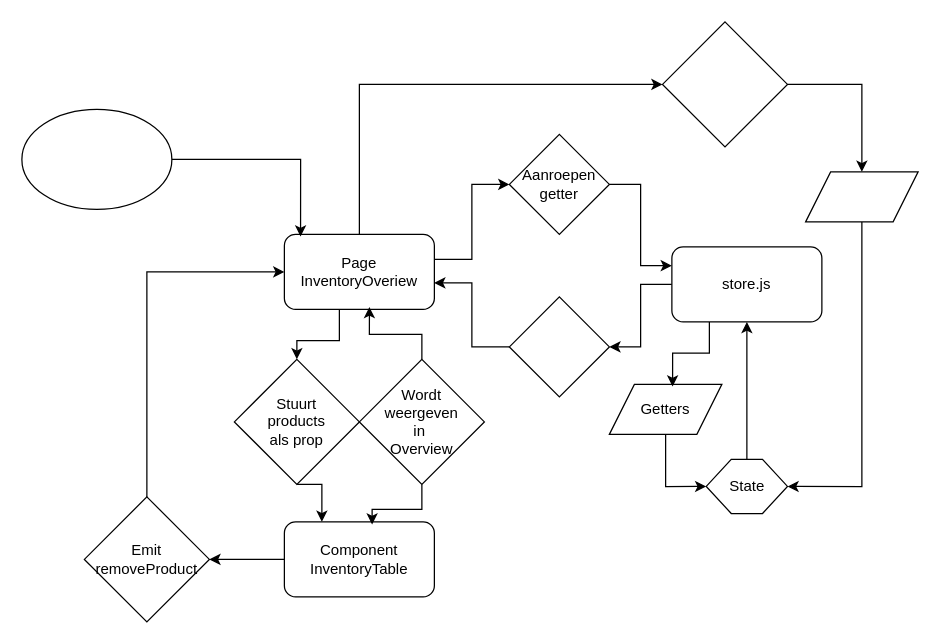
Some shapes in this 940 by 644 pixel diagram are drawn without their labels. The centre of each missing label's shape, as x and y in pixels:
"Actions" belongs at (x=861, y=196).
"Laden state" belongs at (x=558, y=346).
"modifyProduct" belongs at (x=724, y=84).
"UI wordt geladen" belongs at (x=96, y=158).
